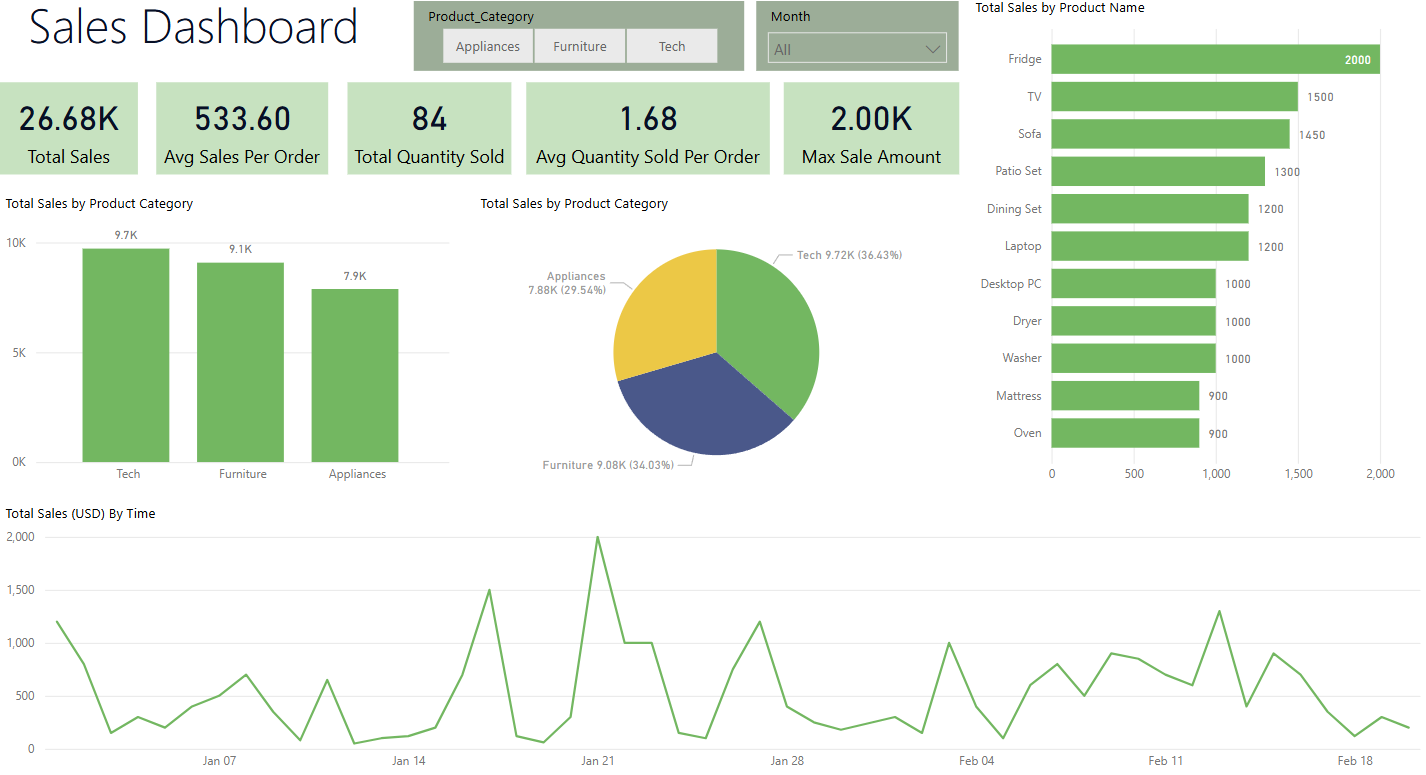

The dashboard page shown, as its layout file describes it:
{"tool":"powerbi","page":{"name":"Page 1","canvas":[1280,720],"ordinal":0},"visuals":[{"type":"card","fields":{"Values":["ChatGPT_Beginner(Sheet1).Total Sales"]},"box":[0,86,123.1,82.6],"z":0},{"type":"card","fields":{"Values":["ChatGPT_Beginner(Sheet1).Average Sale Per Order"]},"box":[139.9,86,153.4,82.6],"z":1000},{"type":"card","fields":{"Values":["ChatGPT_Beginner(Sheet1).Total Quantity Sold"]},"box":[310.2,86,146.7,82.6],"z":2000},{"type":"card","fields":{"Values":["ChatGPT_Beginner(Sheet1).Max Sale Amount"]},"box":[699.7,86,156.8,82.6],"z":3000},{"type":"card","fields":{"Values":["ChatGPT_Beginner(Sheet1).Average Quantity Sold Per Order"]},"box":[470.4,86,217.5,82.6],"z":4000},{"type":"clusteredColumnChart","title":"Sum of Sales by Product Category","fields":{"Y":["Sum(ChatGPT_Beginner(Sheet1).Sales_USD)"],"Category":["ChatGPT_Beginner(Sheet1).Product_Category"]},"box":[0,185.5,406.3,268.1],"z":5000},{"type":"lineChart","title":"Total Sales (USD) By Time","fields":{"Y":["Sum(ChatGPT_Beginner(Sheet1).Sales_USD)"],"Category":["ChatGPT_Beginner(Sheet1).Order_Date.Variation.Date Hierarchy.Year","ChatGPT_Beginner(Sheet1).Order_Date.Variation.Date Hierarchy.Quarter","ChatGPT_Beginner(Sheet1).Order_Date.Variation.Date Hierarchy.Month","ChatGPT_Beginner(Sheet1).Order_Date.Variation.Date Hierarchy.Day"]},"box":[0,462,1279.7,258],"z":6000},{"type":"barChart","title":"Total Sales by Product Name","fields":{"Category":["ChatGPT_Beginner(Sheet1).Product_Name"],"Y":["Sum(ChatGPT_Beginner(Sheet1).Sales_USD)"]},"box":[866.6,10.1,413.1,443.4],"z":7000},{"type":"pieChart","title":"Total Sales by Product Category","fields":{"Category":["ChatGPT_Beginner(Sheet1).Product_Category"],"Y":["Sum(ChatGPT_Beginner(Sheet1).Sales_USD)"]},"box":[424.9,185.5,431.6,268.1],"z":8000},{"type":"textbox","box":[0,0,345.6,72.5],"z":9000},{"type":"slicer","fields":{"Values":["ChatGPT_Beginner(Sheet1).Product_Category"]},"box":[369.2,13.5,295.1,62.4],"z":10000},{"type":"slicer","fields":{"Values":["ChatGPT_Beginner(Sheet1).Order_Date.Variation.Date Hierarchy.Month"]},"box":[676.1,13.5,180.4,62.4],"z":11000}]}

Visuals, with their boxes on the page's 1280x720 design canvas (x1, y1, x2, y2). These are canvas units, not pixel positions in the 1426x775 screenshot, which may show the page scaled, cropped or inside an application window:
card - ChatGPT_Beginner(Sheet1).Total Sales: bbox(0, 86, 123, 169)
card - ChatGPT_Beginner(Sheet1).Average Sale Per Order: bbox(140, 86, 293, 169)
card - ChatGPT_Beginner(Sheet1).Total Quantity Sold: bbox(310, 86, 457, 169)
card - ChatGPT_Beginner(Sheet1).Max Sale Amount: bbox(700, 86, 856, 169)
card - ChatGPT_Beginner(Sheet1).Average Quantity Sold Per Order: bbox(470, 86, 688, 169)
"Sum of Sales by Product Category" clusteredColumnChart: bbox(0, 186, 406, 454)
"Total Sales (USD) By Time" lineChart: bbox(0, 462, 1280, 720)
"Total Sales by Product Name" barChart: bbox(867, 10, 1280, 454)
"Total Sales by Product Category" pieChart: bbox(425, 186, 856, 454)
textbox: bbox(0, 0, 346, 72)
slicer - ChatGPT_Beginner(Sheet1).Product_Category: bbox(369, 14, 664, 76)
slicer - ChatGPT_Beginner(Sheet1).Order_Date.Variation.Date Hierarchy.Month: bbox(676, 14, 856, 76)
